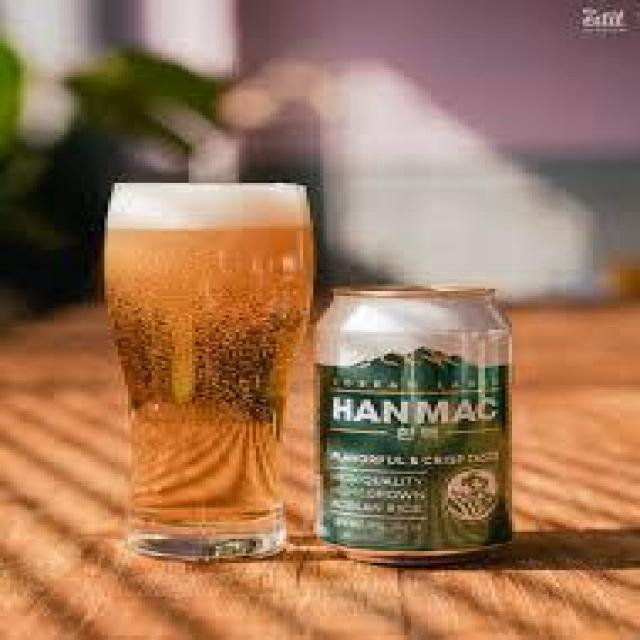beer-can: (310, 276, 526, 572)
